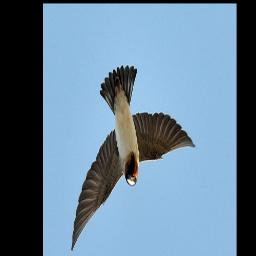Swallow: (70, 65, 196, 254)
